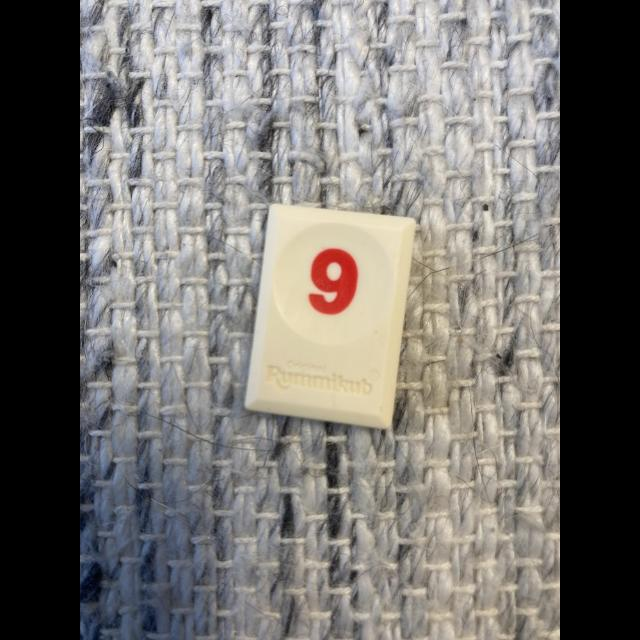red_9: (245, 205, 415, 429)
